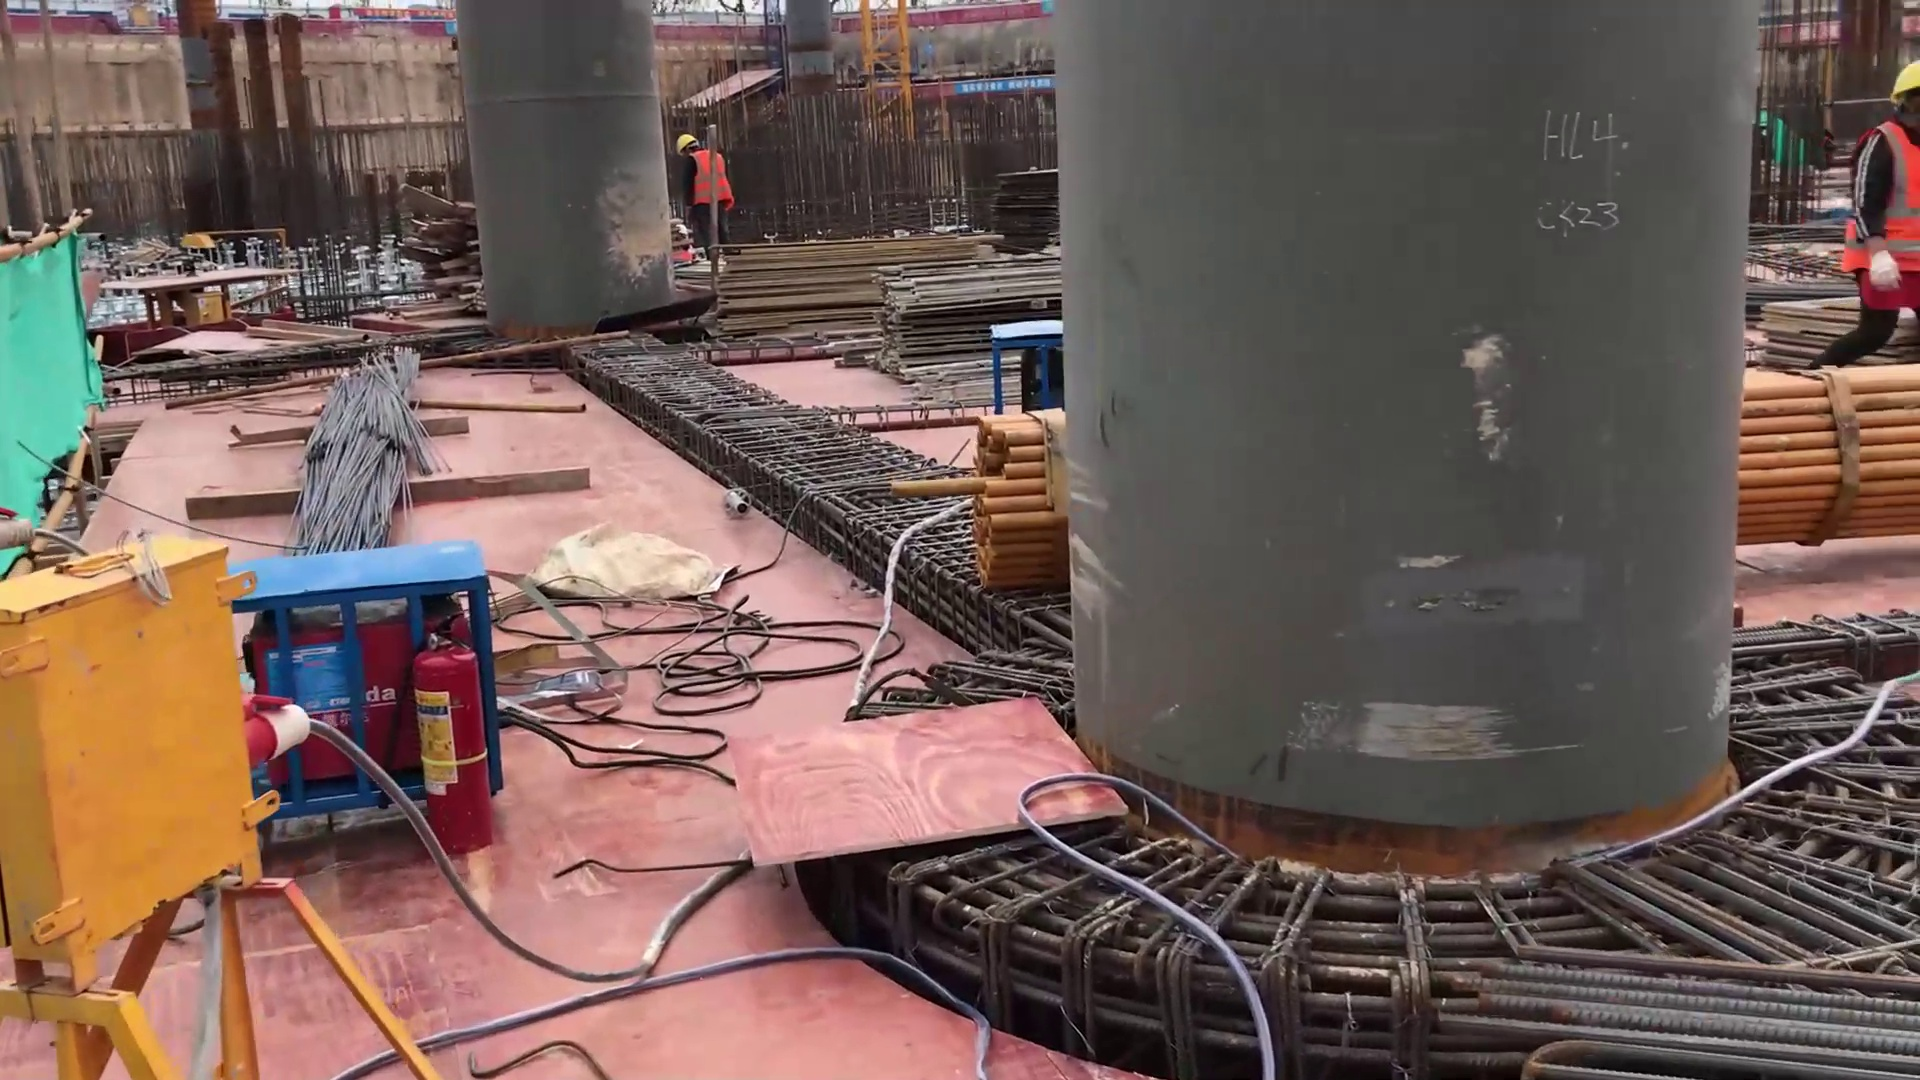board: (724, 229, 948, 344), (998, 172, 1079, 249)
cutter: (126, 212, 279, 319)
ebox: (9, 554, 273, 896), (194, 302, 226, 337)
helmet: (1879, 60, 1920, 97), (676, 131, 696, 154), (680, 223, 690, 237)
person: (1794, 36, 1920, 375), (678, 132, 734, 252), (675, 225, 698, 262)
rebar: (1439, 936, 1916, 1080), (253, 331, 428, 555)
vest: (1834, 126, 1920, 275), (683, 149, 731, 205), (672, 244, 699, 255)
